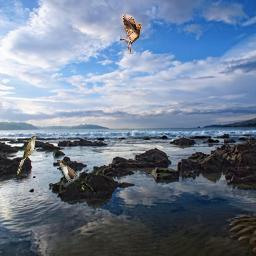Cuckoo: (57, 160, 97, 193), (17, 135, 37, 175)
Sparrow: (120, 14, 142, 54)
